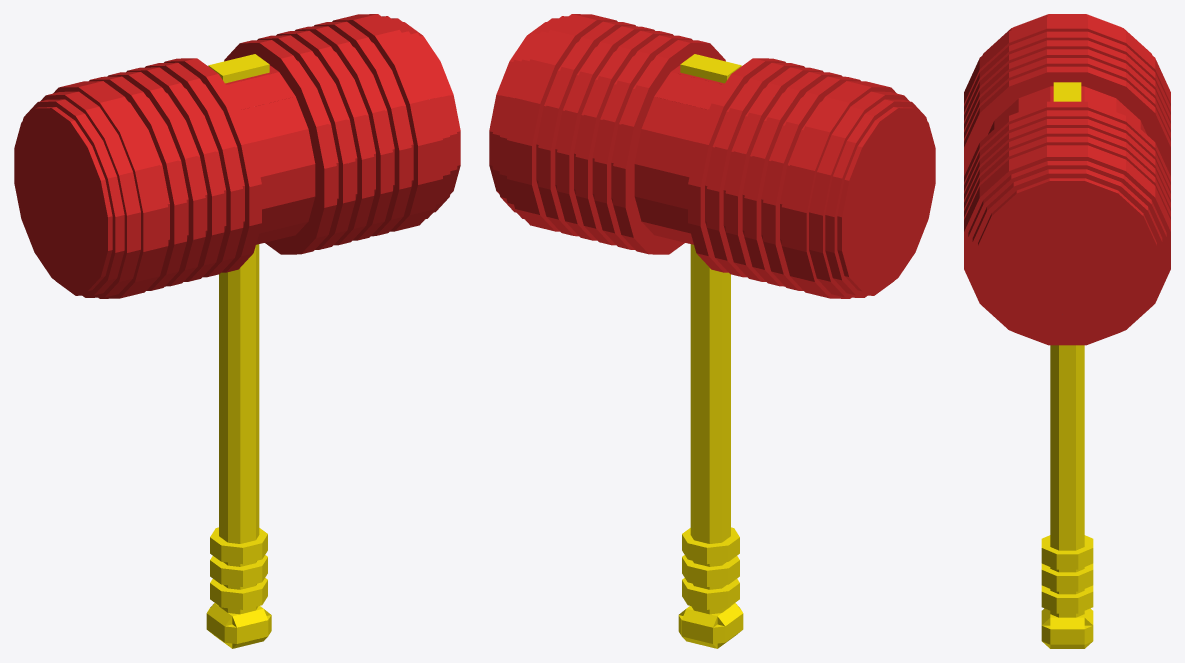
File: asset.glb
The picture shows the model from 3 angles, left to right: view 1: azimuth 30°, elevation 25°; view 2: azimuth 150°, elevation 25°; view 3: azimuth 270°, elevation 25°; orthographic projection. The views are drawn at different scales.
Parts seen in each view (by area): view 1: cube_233, cube_235, hexadecagon_224, hexadecagon_225, hexadecagon_226, cube_234, hexadecagon_227, hexadecagon_229, hexadecagon_113, hexadecagon_112, hexadecagon_228, hexadecagon_230 (+58 smaller); view 2: cube_233, cube_236, hexadecagon_225, cube_234, hexadecagon_227, hexadecagon_228, hexadecagon_115, hexadecagon_230, hexadecagon_116, hexadecagon_224, hexadecagon_226, hexadecagon_114 (+58 smaller); view 3: hexadecagon_104, hexadecagon_110, hexadecagon_105, hexadecagon_107, hexadecagon_106, hexadecagon_109, cube_234, hexadecagon_108, hexadecagon_111, cube_235, cube_236, hexadecagon_125 (+77 smaller).
Part boxes in pixels (x1,y1,x2,y2): cube_233: (240, 245, 255, 614); cube_235: (228, 268, 240, 614); hexadecagon_224: (21, 146, 105, 252); hexadecagon_225: (14, 180, 112, 218); hexadecagon_226: (14, 149, 112, 250); cube_234: (219, 272, 227, 612); hexadecagon_227: (14, 123, 112, 276); hexadecagon_229: (34, 107, 87, 291); hexadecagon_113: (253, 129, 315, 176); hexadecagon_112: (241, 96, 308, 141); hexadecagon_228: (21, 108, 104, 291); hexadecagon_230: (51, 107, 74, 291); cube_233: (694, 245, 709, 614); cube_236: (709, 268, 721, 614); hexadecagon_225: (837, 123, 935, 276); cube_234: (722, 272, 730, 612); hexadecagon_227: (837, 180, 935, 218); hexadecagon_228: (844, 146, 928, 252); hexadecagon_115: (634, 129, 696, 176); hexadecagon_230: (875, 107, 898, 291); hexadecagon_116: (641, 96, 708, 141); hexadecagon_224: (845, 108, 928, 291); hexadecagon_226: (837, 149, 935, 250); hexadecagon_114: (634, 164, 689, 209); hexadecagon_104: (991, 191, 1143, 330); hexadecagon_110: (1049, 178, 1085, 343); hexadecagon_105: (978, 213, 1156, 307); hexadecagon_107: (978, 213, 1156, 307); hexadecagon_106: (978, 246, 1156, 278); hexadecagon_109: (1017, 178, 1118, 343); cube_234: (1059, 345, 1075, 617); hexadecagon_108: (991, 191, 1143, 330); hexadecagon_111: (1016, 178, 1117, 343); cube_235: (1076, 345, 1084, 617); cube_236: (1050, 345, 1058, 617); hexadecagon_125: (1082, 66, 1125, 100).
Size of the model in its own units: 0.7062 by 1.11 by 0.375.
1 material, 1 textured.
